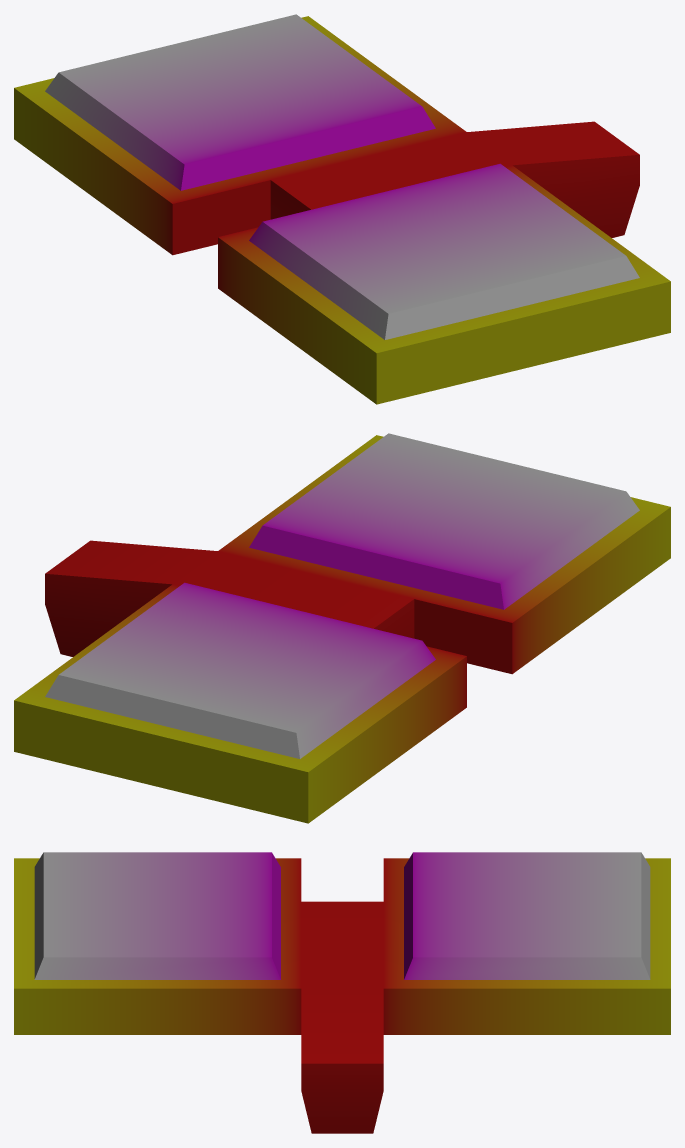
File: SM_Track.gltf
The picture shows the model from 3 angles, top to bottom: view 1: azimuth 30°, elevation 25°; view 2: azimuth 150°, elevation 25°; view 3: azimuth 270°, elevation 25°; orthographic projection. The views are drawn at different scales.
Parts seen in each view (by area): view 1: SM_Track; view 2: SM_Track; view 3: SM_Track.
Part boxes in pixels (x1,y1,x2,y2): SM_Track: (14, 14, 670, 404); SM_Track: (14, 433, 670, 823); SM_Track: (14, 852, 670, 1133).
Bounding box in the file's own units: 0.43 × 0.12 × 0.64.
